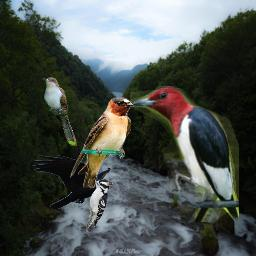Crow: (31, 154, 114, 209)
Cuckoo: (42, 77, 77, 146)
Swallow: (70, 97, 134, 188)
Woodpecker: (130, 86, 239, 222), (86, 177, 112, 232)
